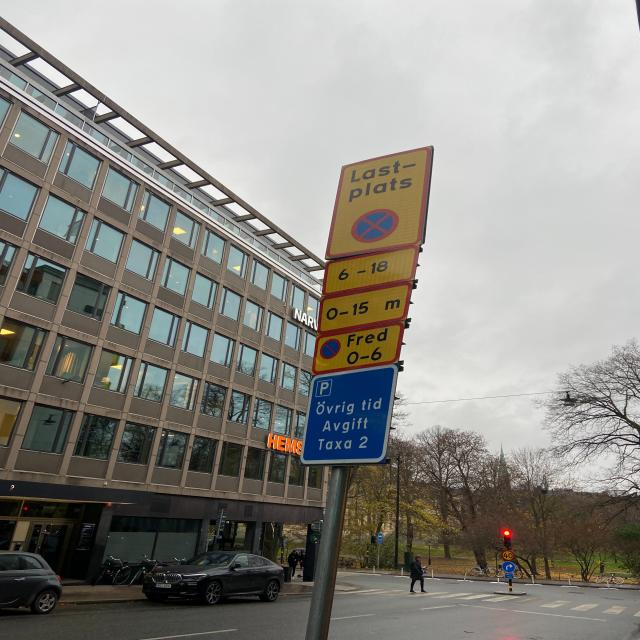lastplats: (326, 150, 424, 247)
